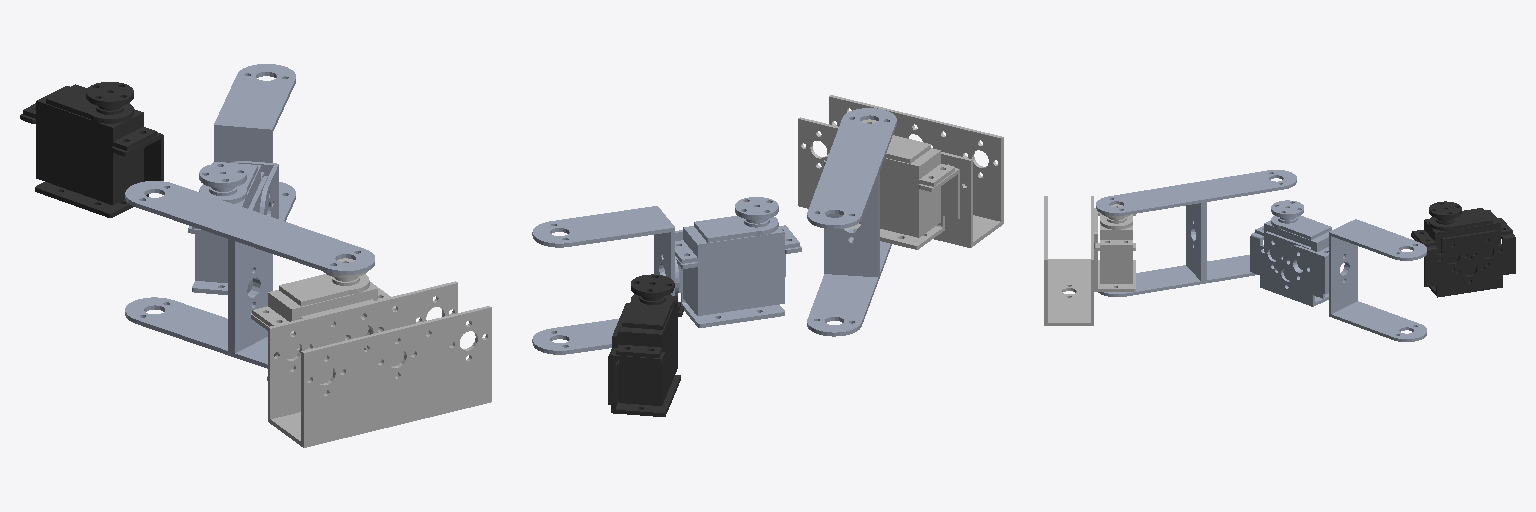
URDF robot description (moveit_tuto):
<?xml version="1.0" encoding="utf-8"?>
<!-- This URDF was automatically created by SolidWorks to URDF Exporter! Originally created by [author] ([email redacted]) 
     Commit Version: 1.6.0-1-g15f4949  Build Version: 1.6.7594.29634
     For more information, please see http://wiki.ros.org/sw_urdf_exporter -->
<robot
  name="moveit_tuto">
  <link
    name="base_link">
    <inertial>
      <origin
        xyz="-0.0071002 0.018342 0.02437"
        rpy="0 0 0" />
      <mass
        value="0.05861" />
      <inertia
        ixx="1.3349E-05"
        ixy="8.1291E-21"
        ixz="-7.2718E-08"
        iyy="2.87E-05"
        iyz="1.5817E-07"
        izz="2.4567E-05" />
    </inertial>
    <visual>
      <origin
        xyz="0 0 0"
        rpy="0 0 0" />
      <geometry>
        <mesh
          filename="package://moveit_tuto/meshes/base_link.STL" />
      </geometry>
      <material
        name="">
        <color
          rgba="0.75294 0.75294 0.75294 1" />
      </material>
    </visual>
    <collision>
      <origin
        xyz="0 0 0"
        rpy="0 0 0" />
      <geometry>
        <mesh
          filename="package://moveit_tuto/meshes/base_link.STL" />
      </geometry>
    </collision>
  </link>
  <link
    name="link_one ">
    <inertial>
      <origin
        xyz="2.9143E-16 0.0515 0.027"
        rpy="0 0 0" />
      <mass
        value="0.01653" />
      <inertia
        ixx="1.608E-05"
        ixy="-3.9162E-21"
        ixz="-5.9474E-20"
        iyy="1.053E-05"
        iyz="-9.2176E-20"
        izz="7.2959E-06" />
    </inertial>
    <visual>
      <origin
        xyz="0 0 0"
        rpy="0 0 0" />
      <geometry>
        <mesh
          filename="package://moveit_tuto/meshes/link_one .STL" />
      </geometry>
      <material
        name="">
        <color
          rgba="0.66667 0.69804 0.76863 1" />
      </material>
    </visual>
    <collision>
      <origin
        xyz="0 0 0"
        rpy="0 0 0" />
      <geometry>
        <mesh
          filename="package://moveit_tuto/meshes/link_one .STL" />
      </geometry>
    </collision>
  </link>
  <joint
    name="joint_one"
    type="revolute">
    <origin
      xyz="-3.003E-05 0.0285 0.0037"
      rpy="0 0 0" />
    <parent
      link="base_link" />
    <child
      link="link_one " />
    <axis
      xyz="0 0 1" />
    <limit
      lower="-1.5708"
      upper="1.5708"
      effort="0.8826"
      velocity="5.236" />
  </joint>
  <link
    name="link_two">
    <inertial>
      <origin
        xyz="0.0012756 0.020682 0.025335"
        rpy="0 0 0" />
      <mass
        value="0.049807" />
      <inertia
        ixx="1.9795E-05"
        ixy="1.0073E-07"
        ixz="-1.5817E-07"
        iyy="1.1806E-05"
        iyz="7.2718E-08"
        izz="1.2001E-05" />
    </inertial>
    <visual>
      <origin
        xyz="0 0 0"
        rpy="0 0 0" />
      <geometry>
        <mesh
          filename="package://moveit_tuto/meshes/link_two.STL" />
      </geometry>
      <material
        name="">
        <color
          rgba="0.66667 0.69804 0.76863 1" />
      </material>
    </visual>
    <collision>
      <origin
        xyz="0 0 0"
        rpy="0 0 0" />
      <geometry>
        <mesh
          filename="package://moveit_tuto/meshes/link_two.STL" />
      </geometry>
    </collision>
  </link>
  <joint
    name="joint_two"
    type="revolute">
    <origin
      xyz="0 0.103 0"
      rpy="0 0 0" />
    <parent
      link="link_one " />
    <child
      link="link_two" />
    <axis
      xyz="0 0 1" />
    <limit
      lower="-1.5708"
      upper="1.5708"
      effort="0.8826"
      velocity="5.236" />
  </joint>
  <link
    name="link_three">
    <inertial>
      <origin
        xyz="0.0010603 0.010592 0.025073"
        rpy="0 0 0" />
      <mass
        value="0.039177" />
      <inertia
        ixx="1.1393E-05"
        ixy="-4.0534E-21"
        ixz="-1.5817E-07"
        iyy="6.2722E-06"
        iyz="7.2718E-08"
        izz="7.9717E-06" />
    </inertial>
    <visual>
      <origin
        xyz="0 0 0"
        rpy="0 0 0" />
      <geometry>
        <mesh
          filename="package://moveit_tuto/meshes/link_three.STL" />
      </geometry>
      <material
        name="">
        <color
          rgba="0.25098 0.25098 0.25098 1" />
      </material>
    </visual>
    <collision>
      <origin
        xyz="0 0 0"
        rpy="0 0 0" />
      <geometry>
        <mesh
          filename="package://moveit_tuto/meshes/link_three.STL" />
      </geometry>
    </collision>
  </link>
  <joint
    name="joint_three"
    type="revolute">
    <origin
      xyz="0 0.09497 -0.0007"
      rpy="0 0 0" />
    <parent
      link="link_two" />
    <child
      link="link_three" />
    <axis
      xyz="0 0 1" />
    <limit
      lower="-1.5708"
      upper="1.5708"
      effort="0.8826"
      velocity="5.236" />
  </joint>
</robot>

--- What the picture shows (computed from the rendered views, not written in the file) ---
Views: 3 orthographic renders of the robot side by side, from view 1: azimuth 30°, elevation 25°; view 2: azimuth 150°, elevation 25°; view 3: azimuth 270°, elevation 25°.
Robot: moveit_tuto — 4 links, 3 joints (3 revolute); root link base_link; default pose: every joint at zero.
Links seen in each view (by area): view 1: base_link, link_one, link_three, link_two; view 2: link_two, base_link, link_one, link_three; view 3: link_two, link_one, link_three, base_link.
Link boxes in pixels (x1,y1,x2,y2): base_link: (251, 258, 491, 447); link_one: (125, 181, 374, 368); link_three: (20, 82, 163, 217); link_two: (188, 64, 295, 294); link_two: (532, 197, 801, 354); base_link: (798, 95, 1003, 249); link_one: (807, 108, 896, 336); link_three: (608, 274, 683, 416); link_two: (1250, 200, 1426, 341); link_one: (1096, 170, 1296, 296); link_three: (1411, 201, 1515, 297); base_link: (1044, 196, 1135, 325).
Bounding box of the posed robot: 0.1243 × 0.2836 × 0.0597 m (x, y, z).
Meshes: 4 distinct files referenced, 4 mesh visuals loaded (4 binary STL).